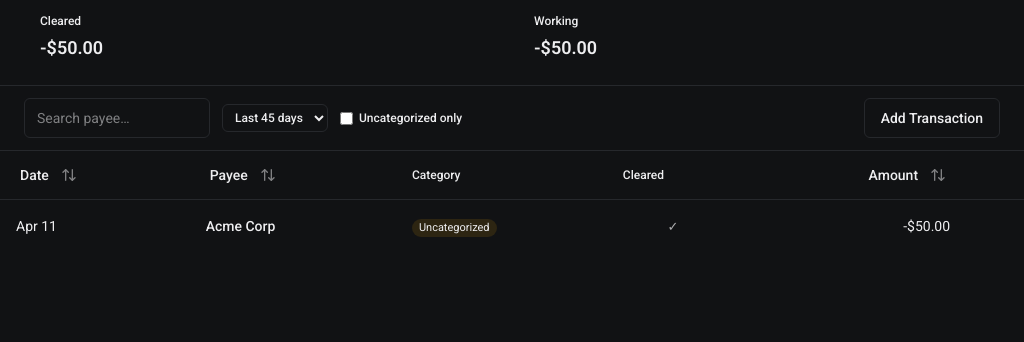
Test: LedgerView › enters edit mode when a row is clicked
Click the text "Acme Corp" at (36, 226), box [0, 199, 1023, 253]
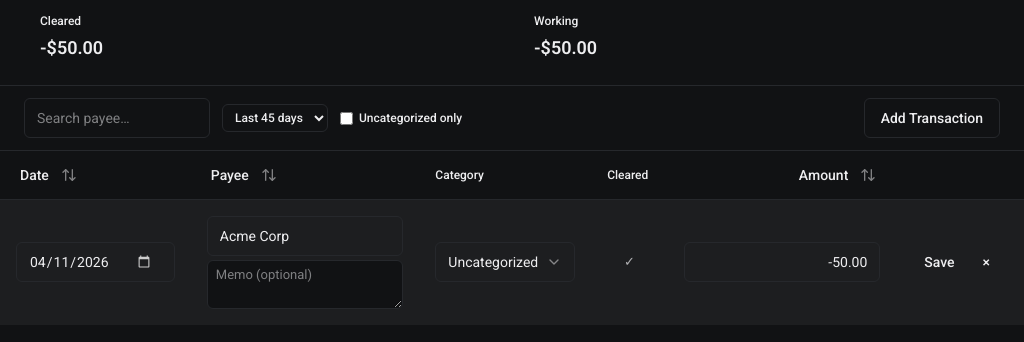
Check: the button "Save" is shown, box [912, 244, 967, 280]
